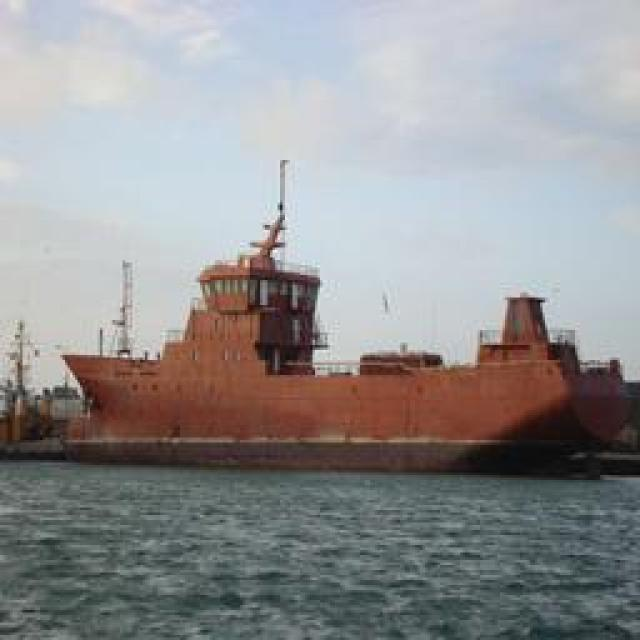CIV_Ship: (66, 212, 629, 466)
